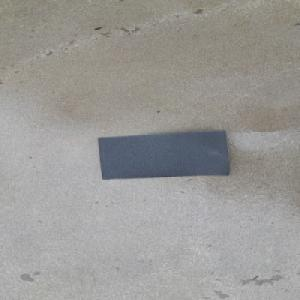PaintChip: (97, 130, 229, 180)
